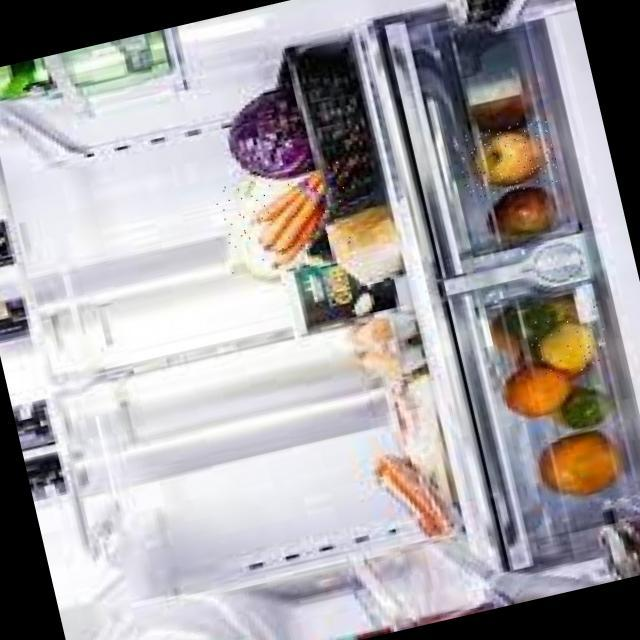Limón: (525, 301, 612, 380)
Manzana: (452, 115, 560, 201)
Zanahoria: (213, 160, 357, 273)
